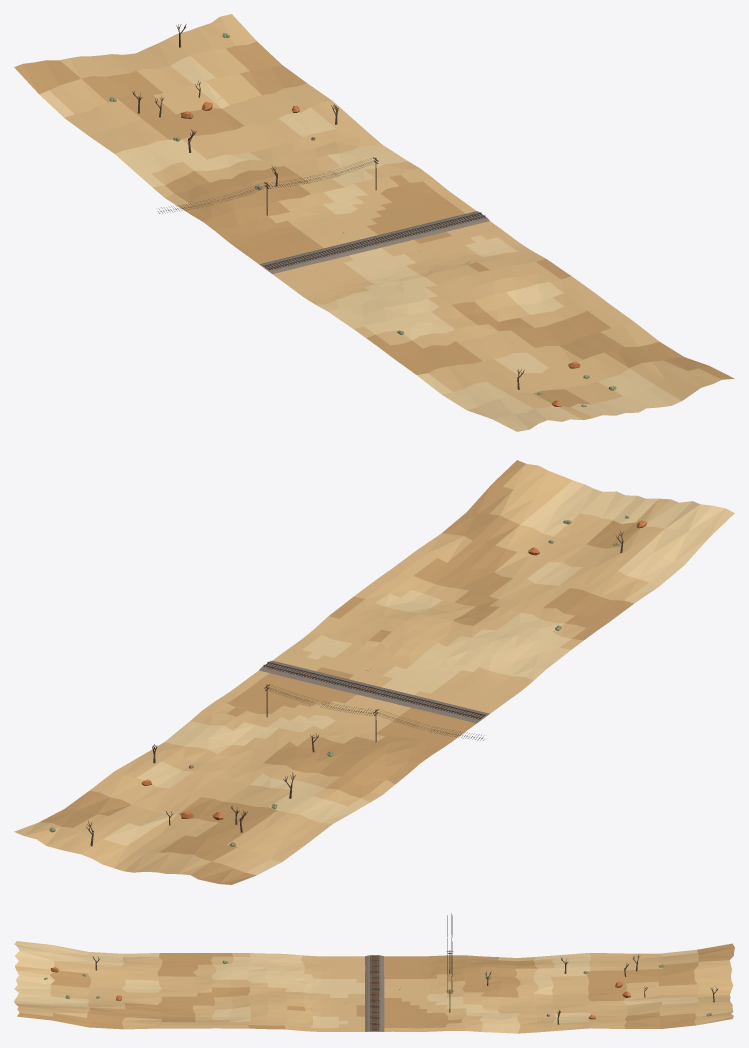
Rendered from SM_FG_Chunk_Boneyard_A.fbx.
The picture shows the model from 3 angles, top to bottom: view 1: azimuth 30°, elevation 25°; view 2: azimuth 150°, elevation 25°; view 3: azimuth 270°, elevation 25°; orthographic projection. The views are drawn at different scales.
Parts seen in each view (by area): view 1: FG_Chunk_Boneyard_A_Ground, FG_Chunk_Boneyard_A_Track, FG_Chunk_Boneyard_A_SceneryNear; view 2: FG_Chunk_Boneyard_A_Ground, FG_Chunk_Boneyard_A_Track, FG_Chunk_Boneyard_A_SceneryNear; view 3: FG_Chunk_Boneyard_A_Ground, FG_Chunk_Boneyard_A_Track, FG_Chunk_Boneyard_A_SceneryNear.
Part boxes in pixels (box(x1,y1,x2,y2)): FG_Chunk_Boneyard_A_Ground: box(14, 14, 734, 431); FG_Chunk_Boneyard_A_Track: box(259, 211, 489, 273); FG_Chunk_Boneyard_A_SceneryNear: box(109, 24, 616, 407); FG_Chunk_Boneyard_A_Ground: box(14, 460, 734, 884); FG_Chunk_Boneyard_A_Track: box(259, 660, 489, 723); FG_Chunk_Boneyard_A_SceneryNear: box(49, 515, 647, 846); FG_Chunk_Boneyard_A_Ground: box(14, 941, 734, 1033); FG_Chunk_Boneyard_A_Track: box(365, 955, 384, 1031); FG_Chunk_Boneyard_A_SceneryNear: box(44, 913, 718, 1024).
Bounding box in the file's own units: 6250 × 20148 × 825.
